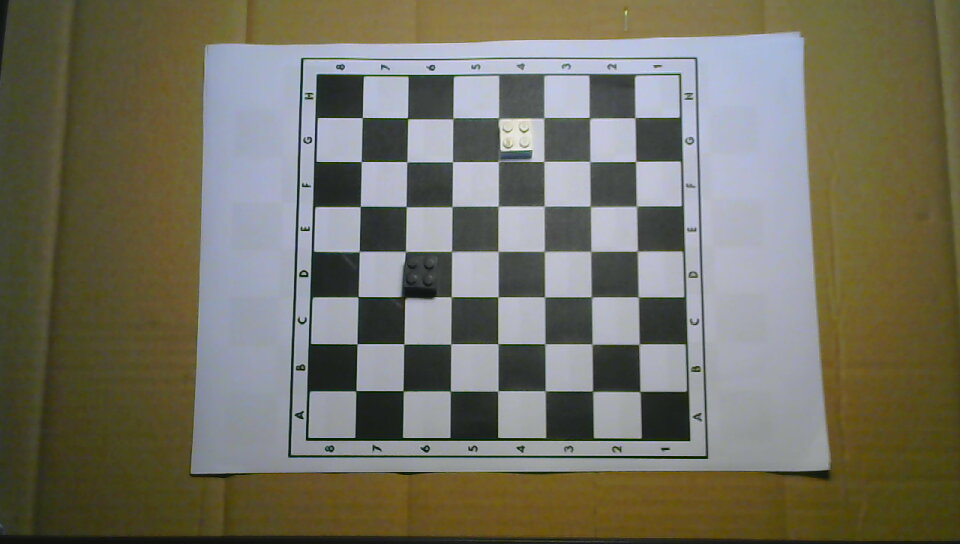bp: (403, 252, 440, 297)
wp: (498, 117, 534, 159)
